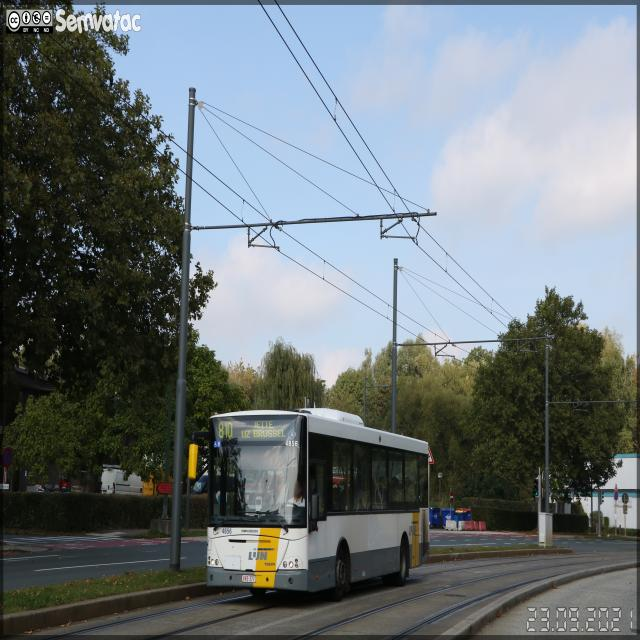bus-number: (218, 421, 234, 440)
